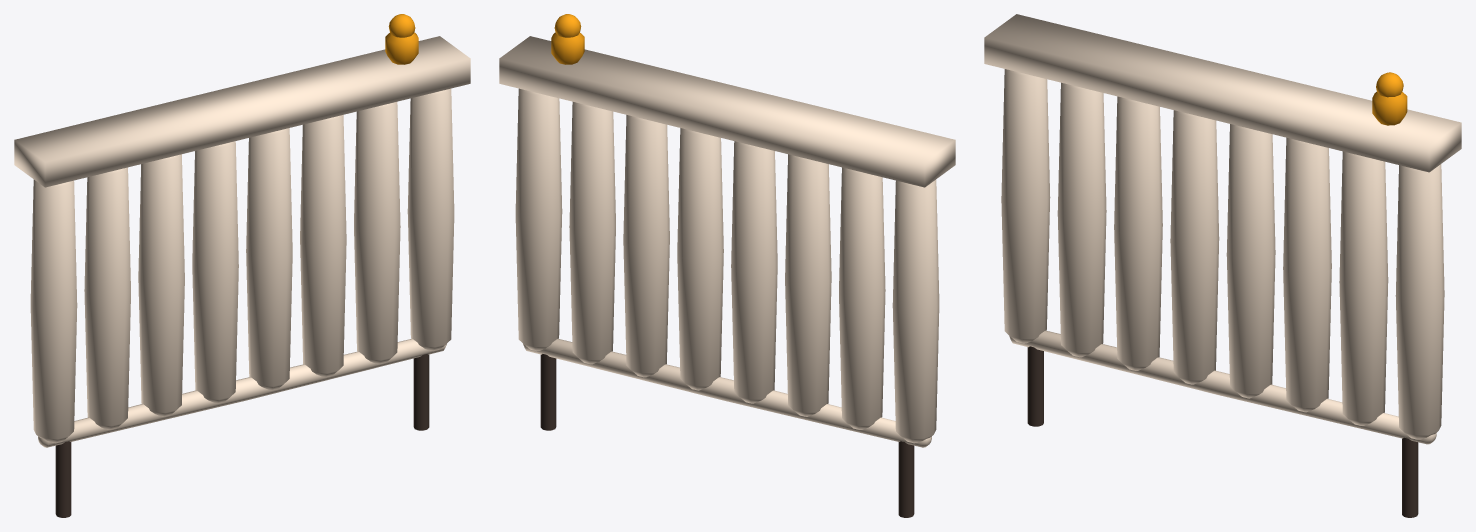
The model's file is heizkoerper.glb.
3 views of the same model, side by side, from view 1: azimuth 30°, elevation 25°; view 2: azimuth 150°, elevation 25°; view 3: azimuth 330°, elevation 25° (orthographic). The views are drawn at different scales.
Parts seen in each view (by area): view 1: Heizkoerper; view 2: Heizkoerper; view 3: Heizkoerper.
Boxes of the visible parts, bbox=[...] form: Heizkoerper: bbox=[14, 14, 470, 517]; Heizkoerper: bbox=[499, 14, 955, 517]; Heizkoerper: bbox=[984, 14, 1461, 517].
Size of the model in its own units: 0.88 by 0.824 by 0.11.
1 material, 1 textured.
